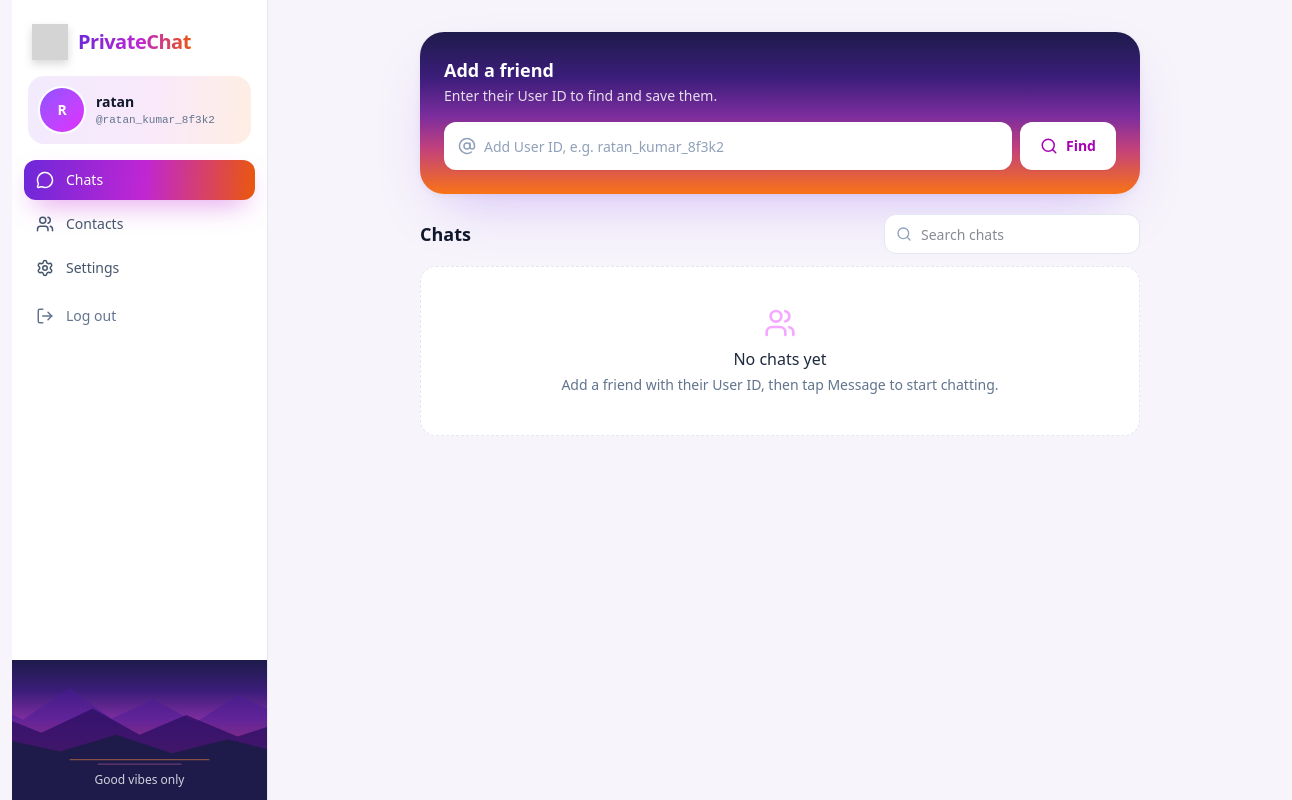
Test: add by User ID (screens 4 and 5) › validates the format before searching
Type "no" into the field named "Friend's User ID".
click(728, 146); type("no")  # box [444,122,1012,170]
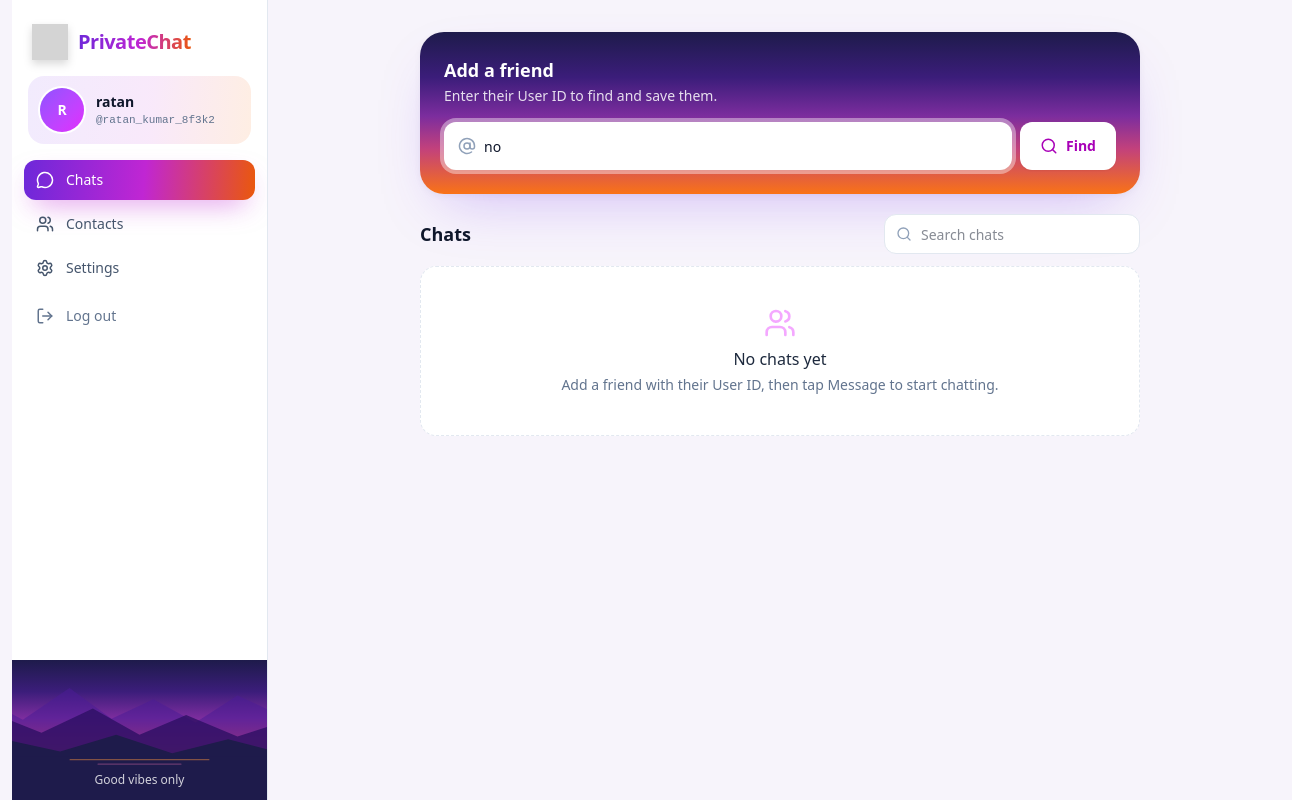
Click the button "Find".
click(1068, 146)  # box [1020,122,1116,170]
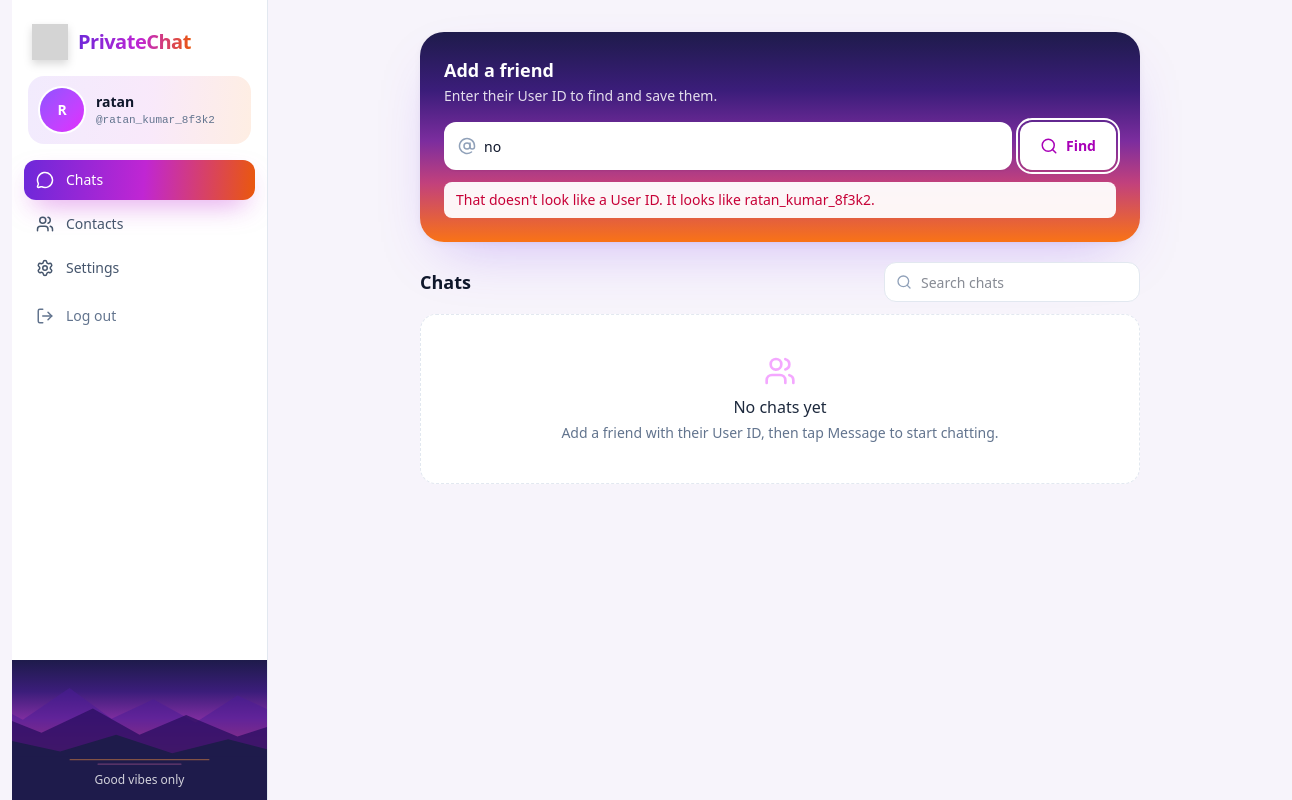
Expected: the text "That doesn't look like a User ID. It looks like ratan_kumar_8f3k2." is shown, [444,182,1116,218]
